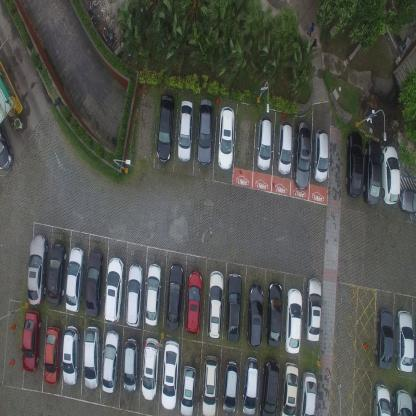car: (26, 231, 48, 306), (64, 245, 85, 314), (103, 256, 124, 324), (344, 128, 364, 198), (394, 308, 415, 374), (161, 338, 180, 410), (84, 248, 103, 319), (46, 241, 66, 308), (156, 92, 175, 162), (141, 337, 161, 403), (101, 328, 121, 394), (224, 270, 242, 342), (206, 268, 224, 340), (165, 262, 184, 330), (362, 138, 381, 206), (21, 308, 41, 372), (259, 358, 281, 416), (196, 96, 214, 166), (82, 324, 101, 390), (285, 285, 303, 354), (293, 121, 311, 190), (184, 269, 203, 334), (375, 306, 394, 371), (381, 144, 400, 208), (125, 261, 143, 328), (217, 104, 235, 171), (247, 282, 265, 348), (304, 275, 322, 341), (201, 353, 220, 415), (144, 262, 162, 327), (62, 324, 80, 386), (268, 278, 284, 347), (176, 98, 193, 162), (241, 355, 259, 415), (221, 359, 240, 415), (280, 360, 299, 415), (44, 325, 61, 386), (122, 334, 139, 394), (312, 127, 330, 183), (276, 119, 293, 175), (256, 113, 272, 172), (180, 364, 196, 415), (299, 371, 317, 415), (0, 121, 14, 170), (392, 386, 414, 416), (372, 380, 390, 415), (398, 187, 416, 217)
